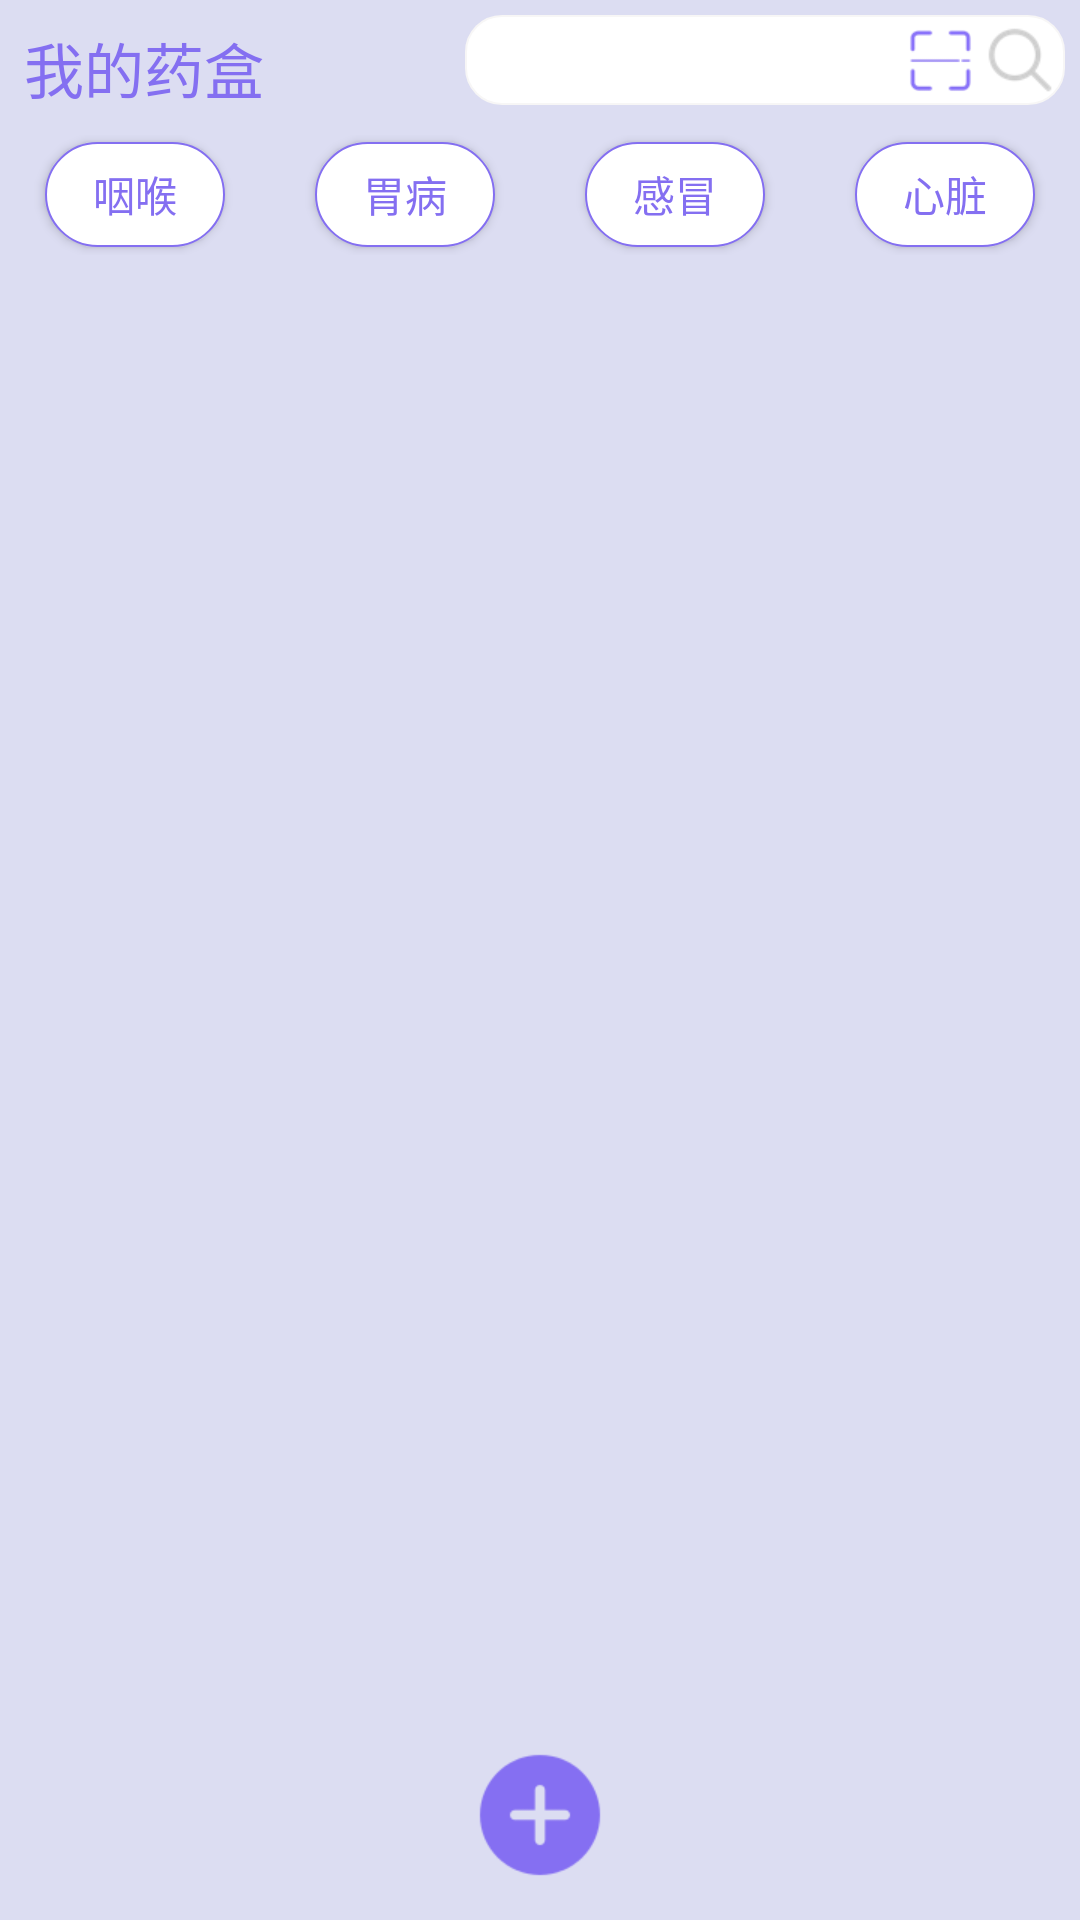

Screen size 1080px×1920px. Icon name, then its box in pixels as bbox=(x1, y1, x2, y2):
add medicine: bbox=(480, 1755, 600, 1875)
saosao: bbox=(910, 30, 971, 91)
search: bbox=(989, 29, 1051, 91)
